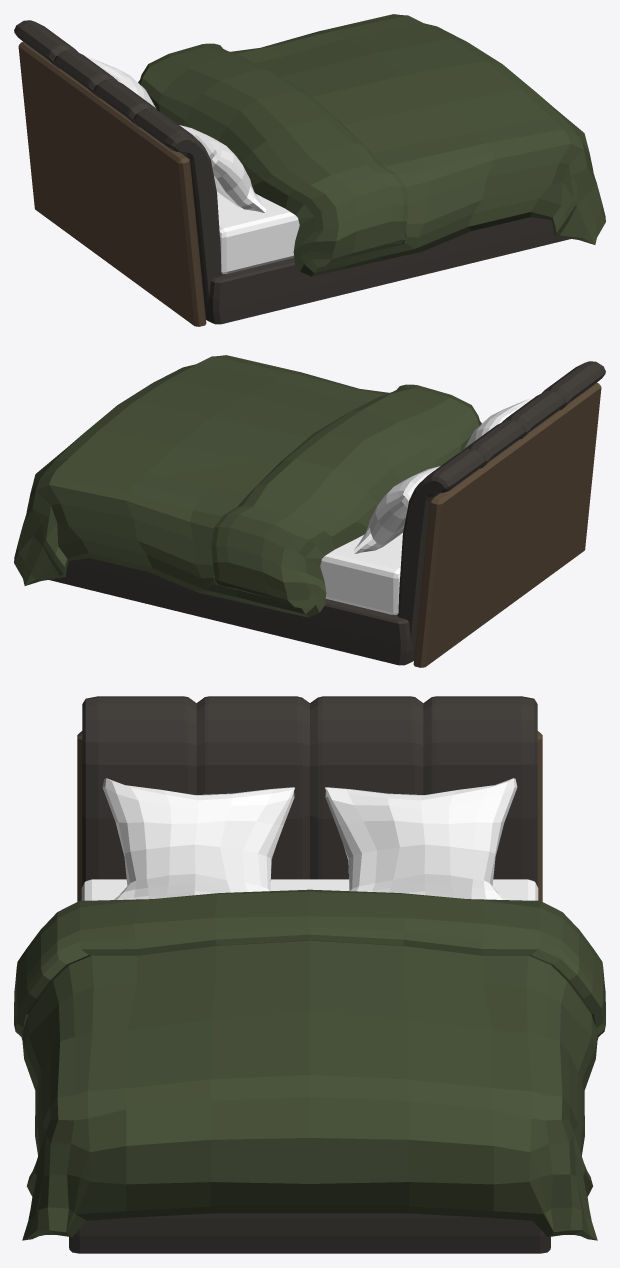
File: SM_Bed_02.glb
3 renders of one model, top to bottom at view 1: azimuth 30°, elevation 25°; view 2: azimuth 150°, elevation 25°; view 3: azimuth 270°, elevation 25°, orthographic. The views are drawn at different scales.
Parts seen in each view (by area): view 1: SM_Bed_02; view 2: SM_Bed_02; view 3: SM_Bed_02.
Boxes of the visible parts, box(x1,y1,x2,y2) form: SM_Bed_02: box(14, 14, 605, 326); SM_Bed_02: box(14, 355, 605, 667); SM_Bed_02: box(14, 696, 605, 1253).
Size of the model in its own units: 3.02 by 1.29 by 2.51.
Materials: 1 (1 with a texture image).
